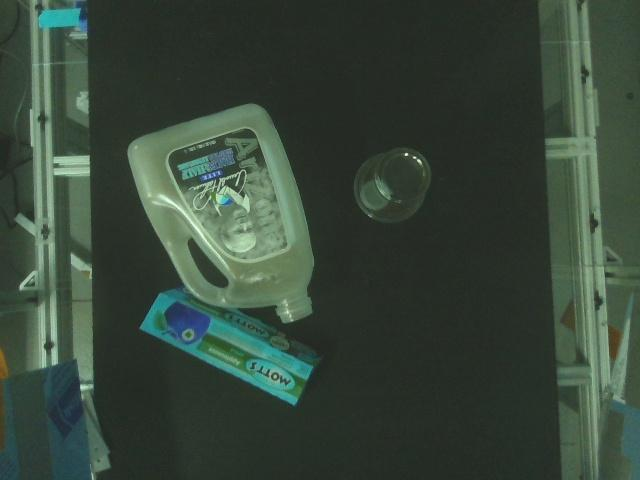cardboard: (139, 285, 323, 407)
plastic: (127, 104, 318, 324), (353, 146, 433, 225), (360, 178, 394, 212)
